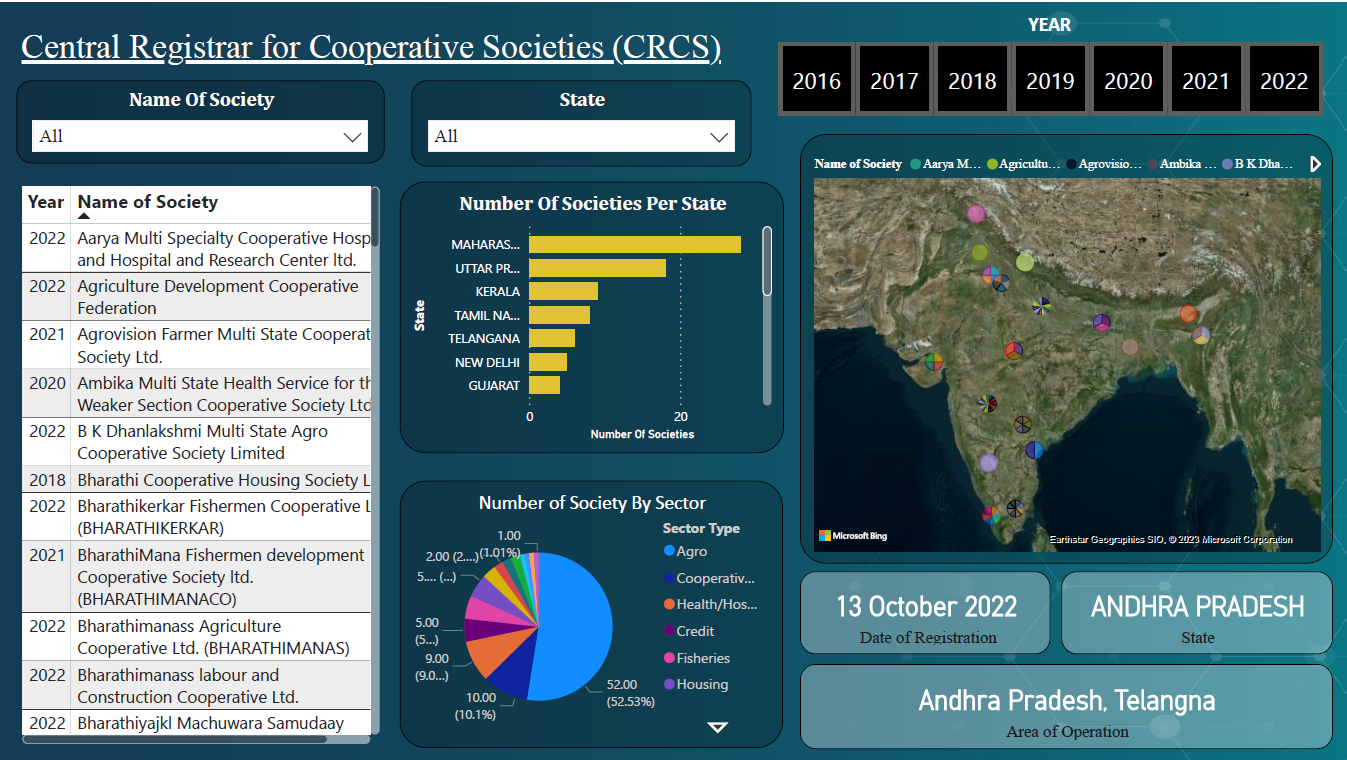

Layout of this report page (visuals, bound fields, positions):
{"tool":"powerbi","page":{"name":"Page 1","canvas":[1280,720],"ordinal":0},"visuals":[{"type":"slicer","title":"State","fields":{"Values":["Table 1.State"]},"box":[391.2,73.8,322.5,82.5],"z":0},{"type":"slicer","title":"YEAR","fields":{"Values":["Table 1.Date of Registration.Variation.Date Hierarchy.Year"]},"box":[713.8,8.8,566.2,105],"z":1000},{"type":"map","fields":{"Category":["Table 1.State"],"Series":["Table 1.Name of Society"]},"box":[760,125,506.2,407.5],"z":2000},{"type":"barChart","title":"Number Of Societies Per State","fields":{"Category":["Table 1.State"],"Y":["CountNonNull(Table 1.Name of Society)"]},"box":[380,170,365,257.5],"z":3000},{"type":"pieChart","title":"Number of Society By Sector","fields":{"Category":["Table 1.Sector Type"],"Y":["CountNonNull(Table 1.Name of Society)"]},"box":[380,453.8,363.8,253.8],"z":4000},{"type":"tableEx","fields":{"Values":["Table 1.Date of Registration.Variation.Date Hierarchy.Year","Table 1.Name of Society"]},"box":[16.2,170,350,538.8],"z":5000},{"type":"card","fields":{"Values":["Max(Table 1.Date of Registration)"]},"box":[760,540,237.5,78.8],"z":6000},{"type":"card","fields":{"Values":["Min(Table 1.State)"]},"box":[1007.5,540,258.8,78.8],"z":7000},{"type":"card","fields":{"Values":["Min(Table 1.Area of Operation)"]},"box":[760,627.5,506.2,81.2],"z":8000},{"type":"slicer","title":"Name Of Society","fields":{"Values":["Table 1.Name of Society"]},"box":[16.2,73.8,350,78.8],"z":9000},{"type":"textbox","box":[16.2,18.8,727.5,60],"z":10000}]}

Visuals, with their boxes in screenshot pixels (x1, y1, x2, y2), scaled from the page's 1280x720 canvas onto the 1347x760 screenshot:
"State" slicer: select_region(412, 78, 751, 165)
"YEAR" slicer: select_region(751, 9, 1346, 120)
map - Table 1.State x Table 1.Name of Society: select_region(800, 132, 1332, 562)
"Number Of Societies Per State" barChart: select_region(400, 179, 784, 451)
"Number of Society By Sector" pieChart: select_region(400, 479, 783, 747)
tableEx - Table 1.Date of Registration.Variation.Date Hierarchy.Year x Table 1.Name of Society: select_region(17, 179, 385, 748)
card - Max(Table 1.Date of Registration): select_region(800, 570, 1050, 653)
card - Min(Table 1.State): select_region(1060, 570, 1333, 653)
card - Min(Table 1.Area of Operation): select_region(800, 662, 1332, 748)
"Name Of Society" slicer: select_region(17, 78, 385, 161)
textbox: select_region(17, 20, 783, 83)
